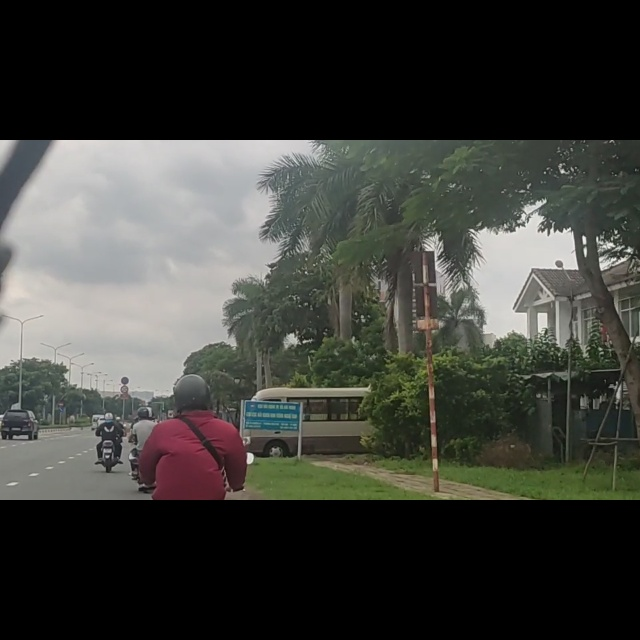bien_cam: (121, 421, 129, 435), (57, 474, 64, 485), (57, 465, 65, 474)
